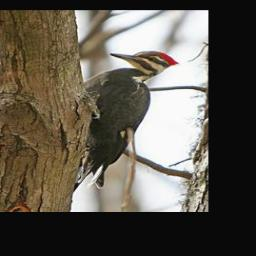Woodpecker: (71, 50, 180, 193)
